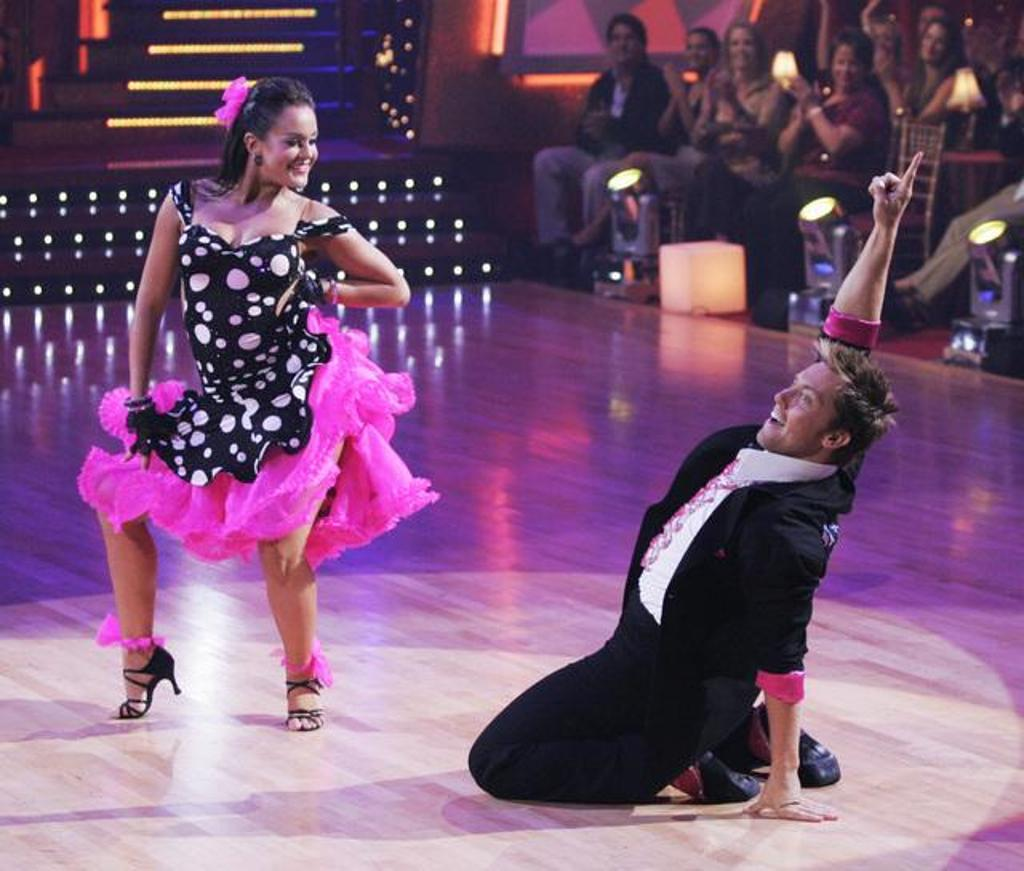face: (755, 366, 837, 448), (257, 103, 319, 188), (831, 42, 861, 86), (611, 24, 639, 66), (727, 30, 754, 70), (921, 23, 947, 61), (685, 34, 711, 69)
